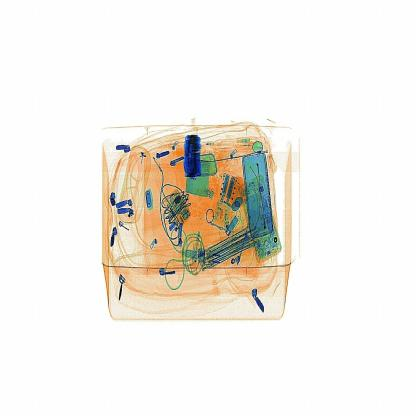scissors: (171, 123, 210, 182)
